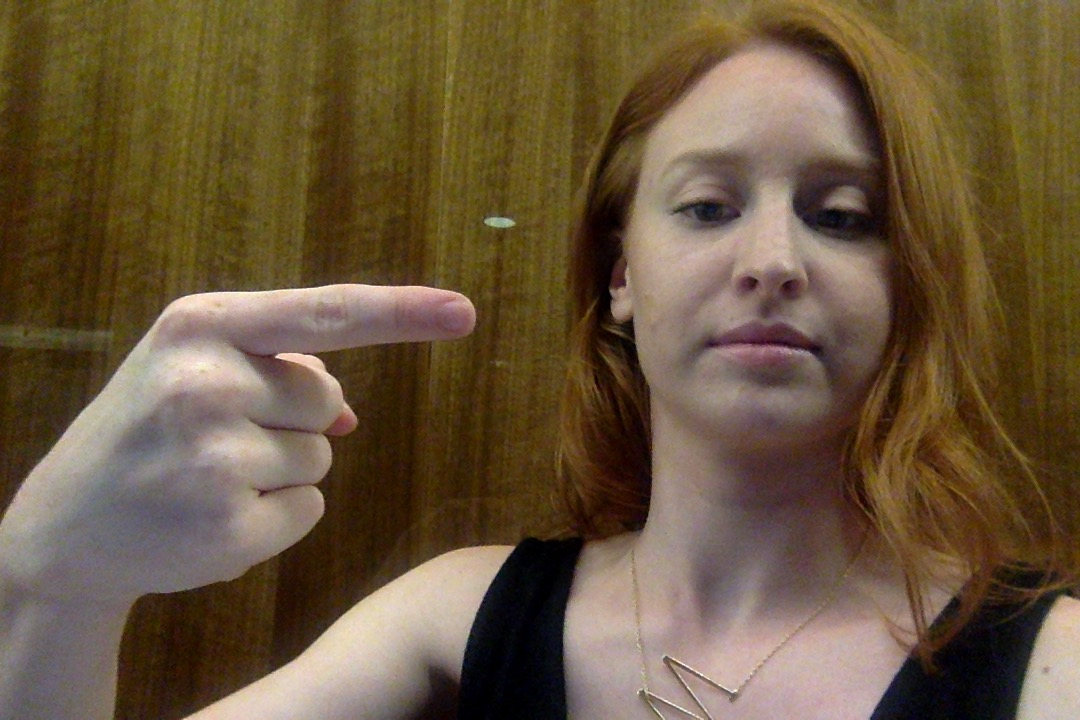g: (34, 278, 488, 599)
